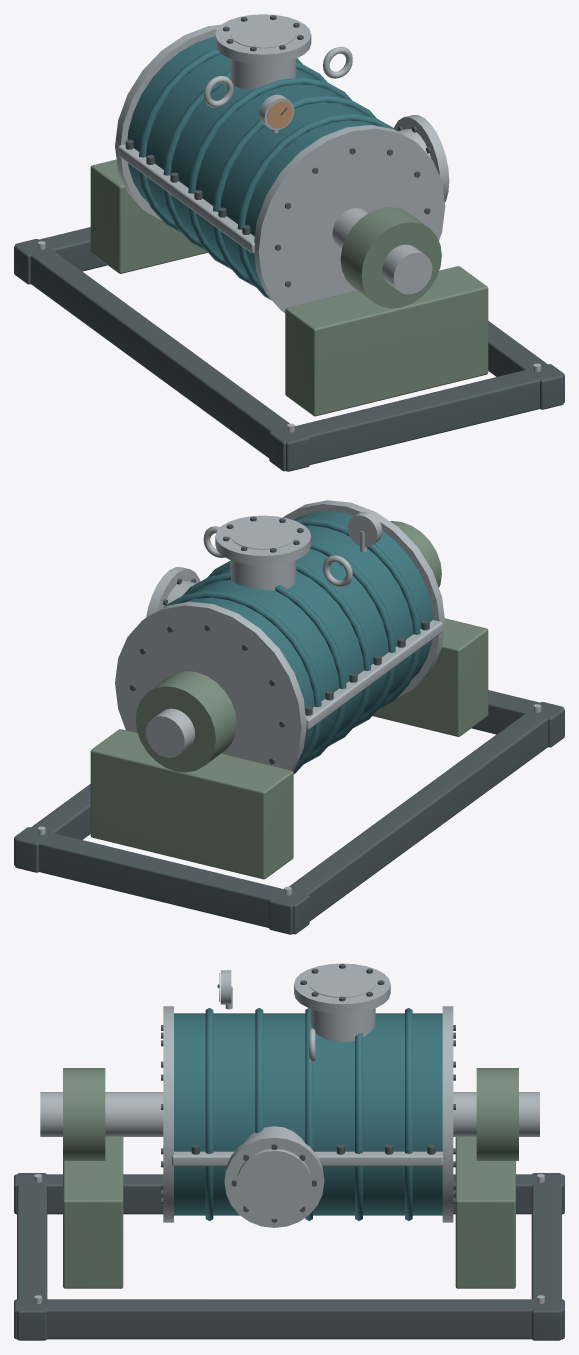
The model's file is turbine_generator.glb.
3 renders of one model, top to bottom at view 1: azimuth 30°, elevation 25°; view 2: azimuth 150°, elevation 25°; view 3: azimuth 270°, elevation 25°, orthographic.
Visible parts, largest first — view 1: turbine_generator_SPOT_machined_steel, turbine_generator_SPOT_sage_enamel, turbine_generator_SPOT_cast_iron, turbine_generator_SPOT_petrol_enamel; view 2: turbine_generator_SPOT_sage_enamel, turbine_generator_SPOT_machined_steel, turbine_generator_SPOT_cast_iron, turbine_generator_SPOT_petrol_enamel; view 3: turbine_generator_SPOT_petrol_enamel, turbine_generator_SPOT_cast_iron, turbine_generator_SPOT_machined_steel, turbine_generator_SPOT_sage_enamel.
Boxes of the visible parts, box(x1,y1,x2,y2) form: turbine_generator_SPOT_machined_steel: box(37, 14, 541, 432); turbine_generator_SPOT_sage_enamel: box(90, 159, 488, 416); turbine_generator_SPOT_cast_iron: box(14, 15, 564, 471); turbine_generator_SPOT_petrol_enamel: box(127, 36, 396, 300); turbine_generator_SPOT_sage_enamel: box(90, 521, 488, 879); turbine_generator_SPOT_machined_steel: box(37, 500, 541, 895); turbine_generator_SPOT_cast_iron: box(14, 516, 564, 934); turbine_generator_SPOT_petrol_enamel: box(163, 511, 432, 773); turbine_generator_SPOT_petrol_enamel: box(174, 1008, 442, 1220); turbine_generator_SPOT_cast_iron: box(14, 964, 564, 1340); turbine_generator_SPOT_machined_steel: box(34, 963, 544, 1303); turbine_generator_SPOT_sage_enamel: box(63, 1068, 518, 1288).
Bounding box in the file's own units: 2.18 × 2.12 × 3.65.
